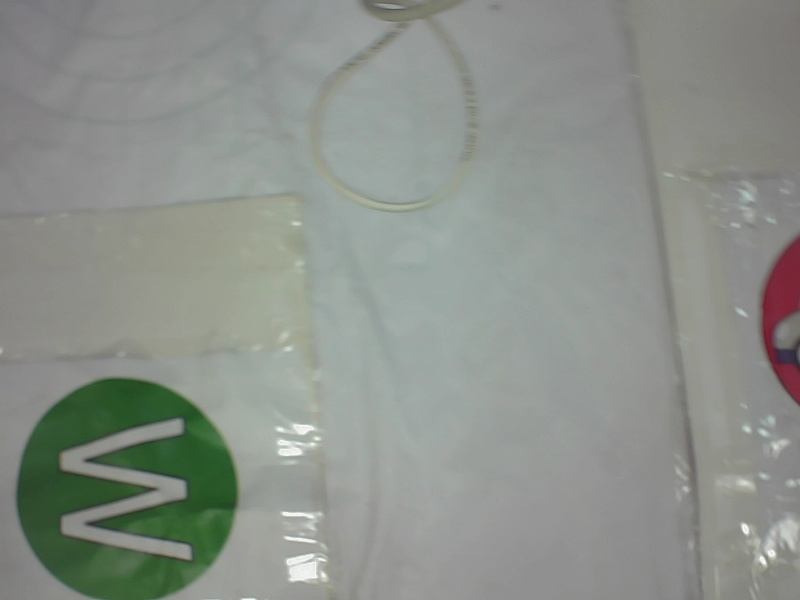areaB: (8, 377, 238, 596)
areaC: (761, 226, 799, 404)
